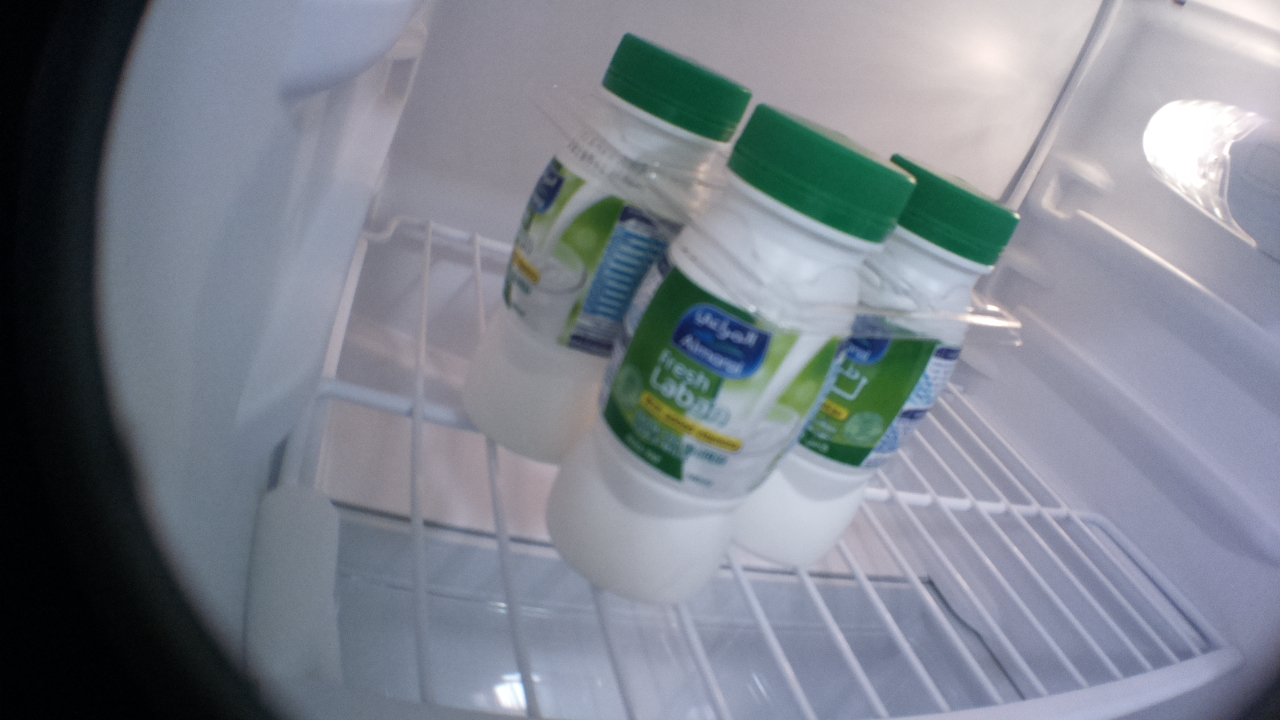laban: (542, 102, 913, 600), (458, 33, 754, 467), (736, 153, 1021, 566)
